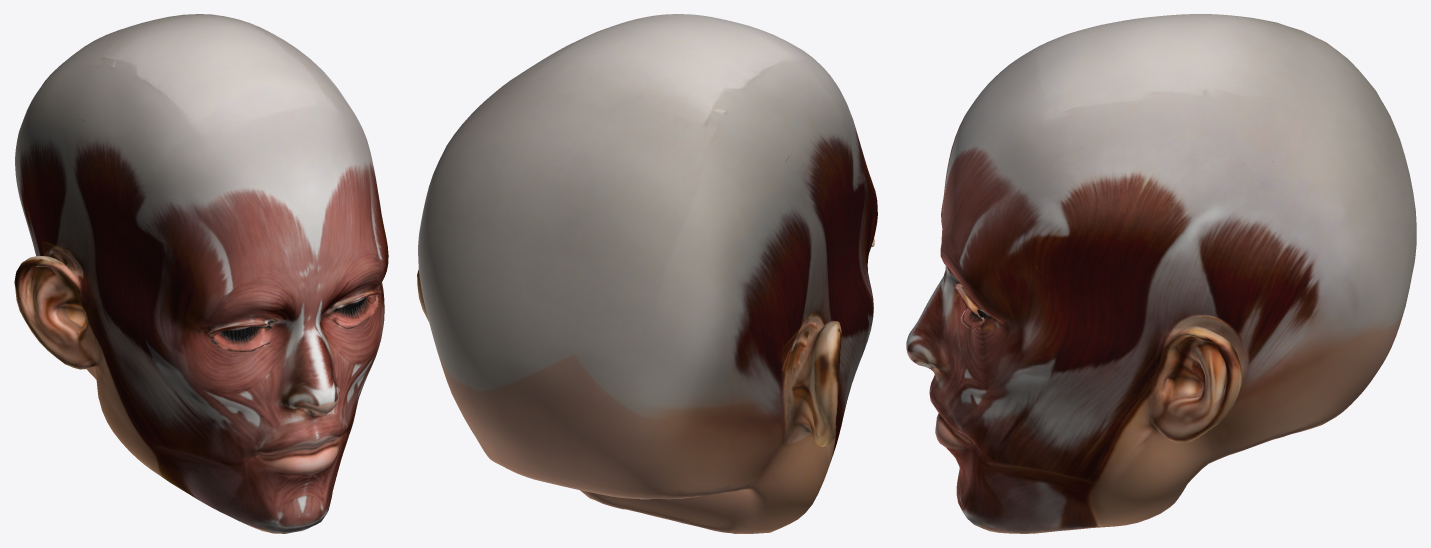
File: anatomical-face.glb
3 renders of one model, left to right at view 1: azimuth 30°, elevation 25°; view 2: azimuth 150°, elevation 25°; view 3: azimuth 270°, elevation 25°, orthographic. The views are drawn at different scales.
Size of the model in its own units: 1.66 by 2 by 1.88.
Materials: 1 (1 with a texture image).
